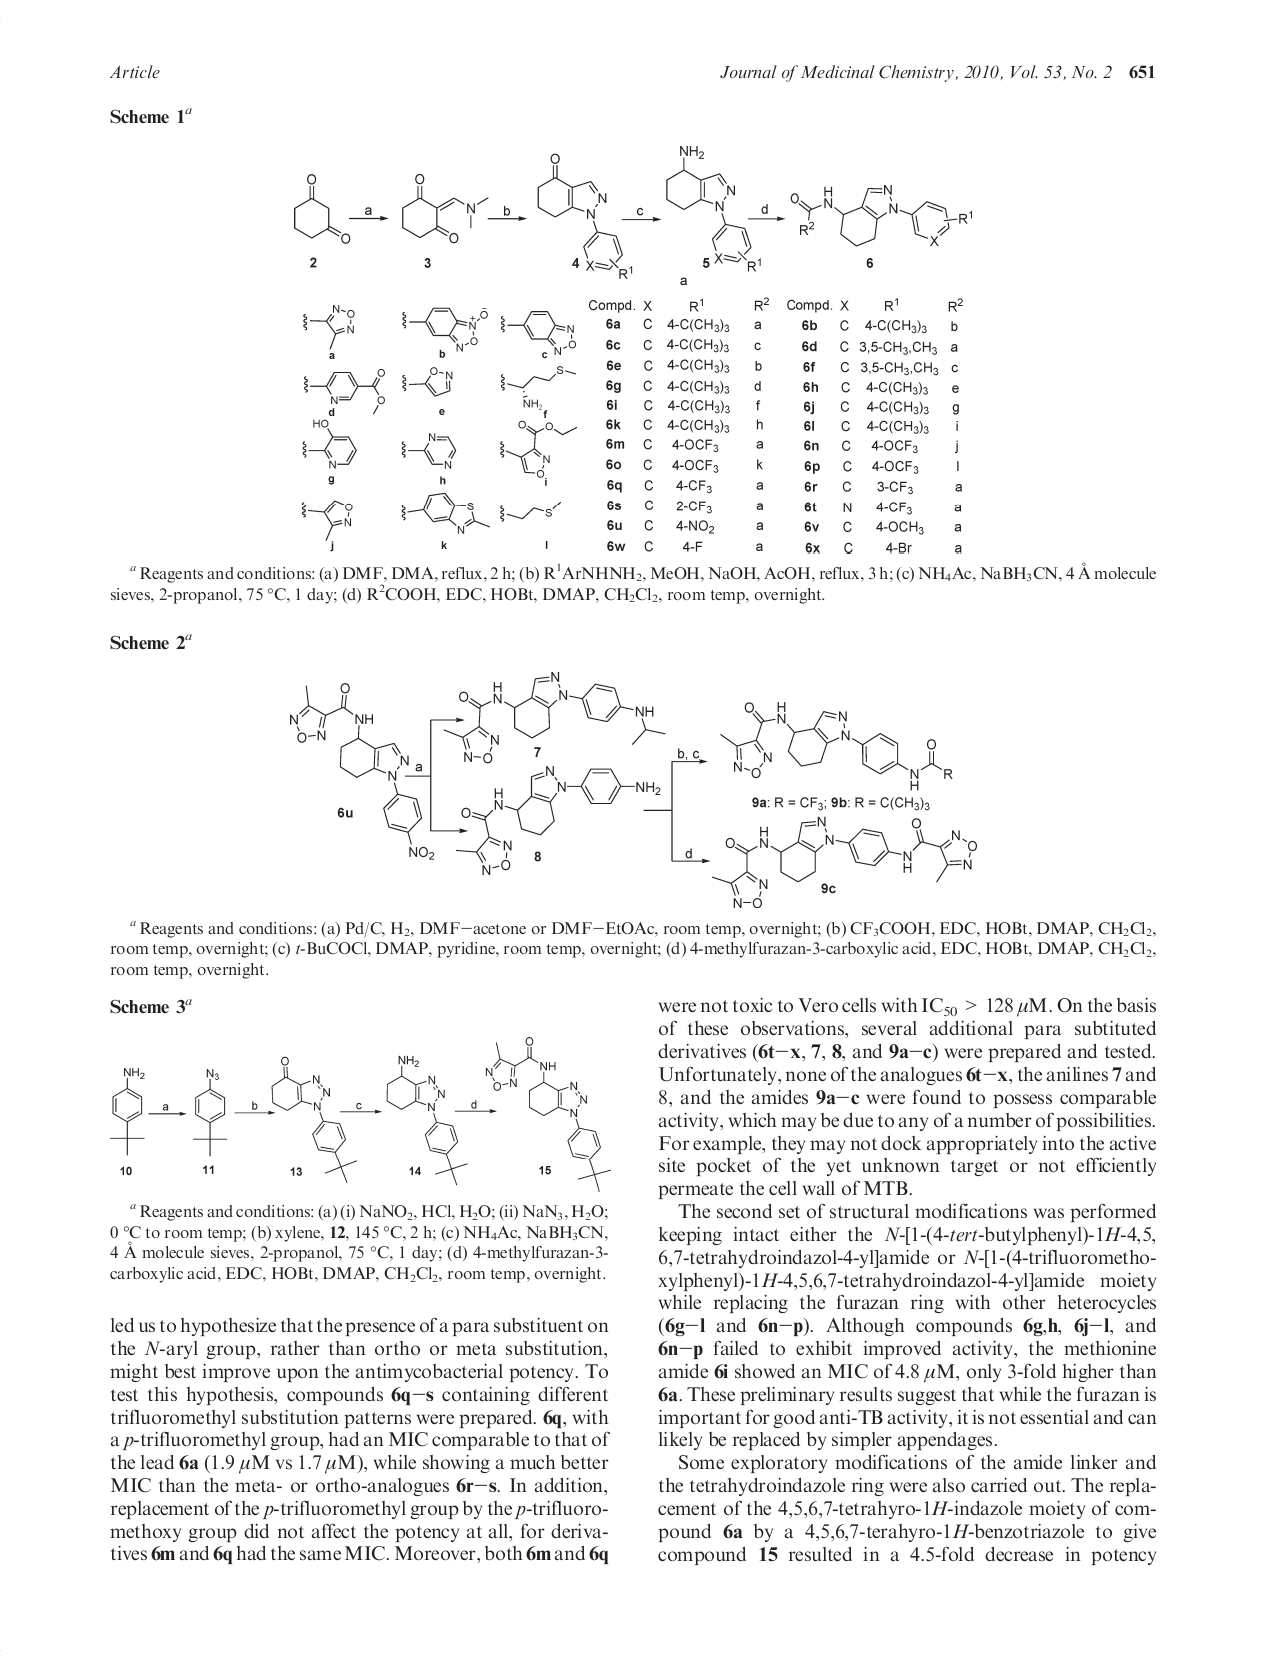exist_molecular: (289, 682, 438, 860), (710, 815, 977, 910), (455, 766, 662, 876), (719, 700, 955, 791), (443, 670, 668, 766), (485, 1035, 613, 1192), (536, 152, 636, 281), (664, 144, 763, 273), (789, 182, 973, 249), (270, 1055, 359, 1184), (384, 1053, 469, 1185), (402, 172, 489, 245), (499, 420, 578, 485), (293, 172, 352, 247), (400, 305, 489, 352), (302, 367, 387, 416), (402, 491, 491, 536), (106, 1064, 148, 1157), (499, 309, 578, 356), (499, 364, 578, 412), (191, 1067, 227, 1158), (301, 418, 358, 469), (302, 303, 356, 350), (301, 499, 355, 543), (399, 432, 456, 469), (499, 499, 563, 527), (400, 364, 453, 398)
